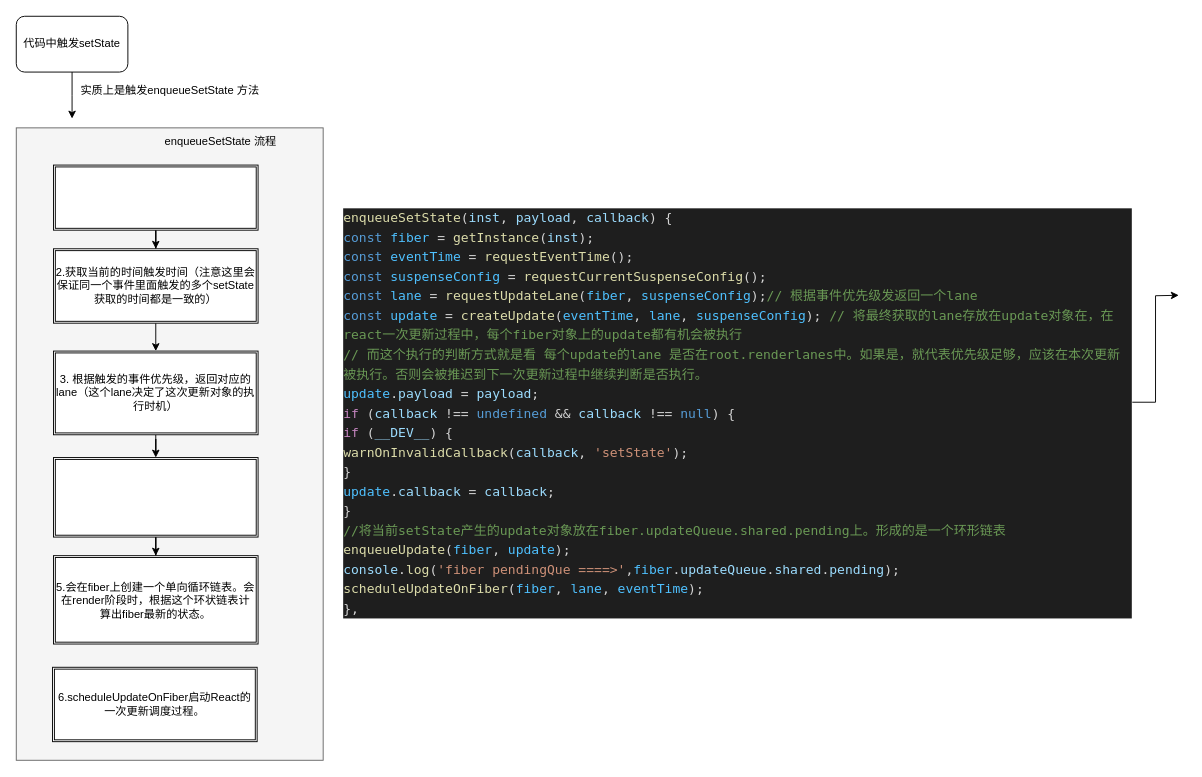
The diagram is 1202 pixels wide and 777 high, and some of its shapes have lost their labels. Each missing label, with the centre of its shape:
"1. 获取类实例上属性 _reactInternals 这就是类实例对应的fibei对象" belongs at point (155, 197).
"4.创建一个更新对象，更新对象的payload就是setState时传入的参数（值/更新函数）" belongs at point (155, 497).
